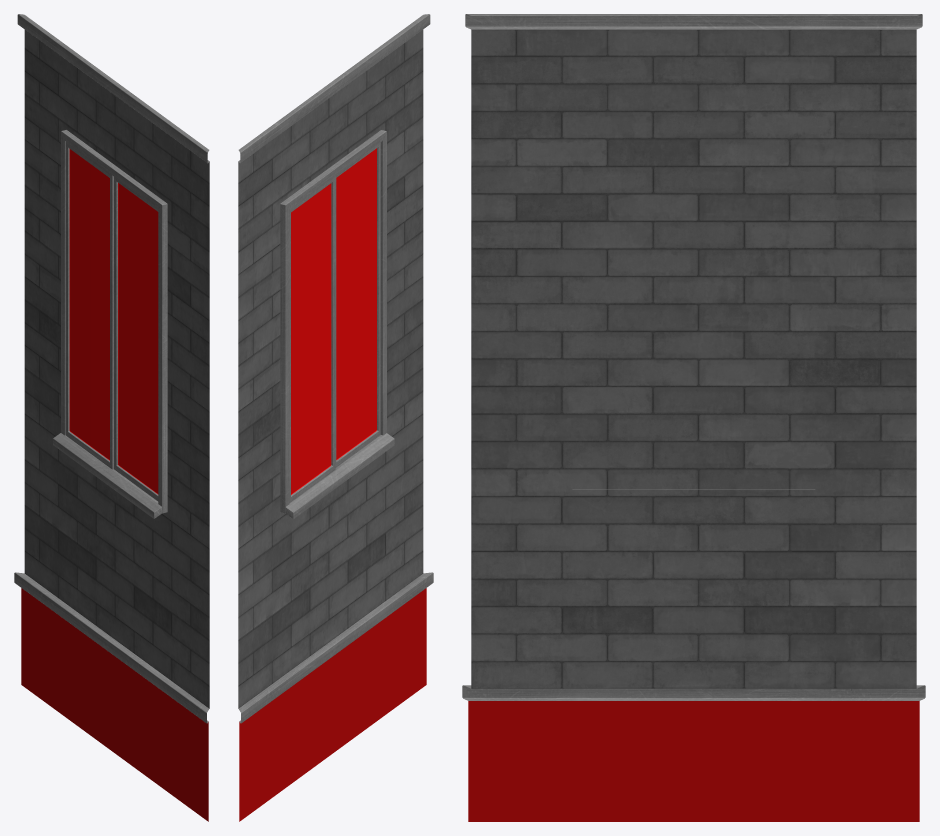
File: SM_Base_150_Window_02.fbx
The picture shows the model from 3 angles, left to right: view 1: azimuth 30°, elevation 25°; view 2: azimuth 150°, elevation 25°; view 3: azimuth 270°, elevation 25°; orthographic projection. The views are drawn at different scales.
Parts seen in each view (by area): view 1: SM_Base_150_Window_02_LOD0; view 2: SM_Base_150_Window_02_LOD0; view 3: SM_Base_150_Window_02_LOD0.
Part boxes in pixels (bbox=[...]): SM_Base_150_Window_02_LOD0: bbox=[14, 14, 209, 821]; SM_Base_150_Window_02_LOD0: bbox=[238, 14, 433, 821]; SM_Base_150_Window_02_LOD0: bbox=[462, 14, 925, 821].
Size of the model in its own units: 6.44 by 156 by 300.
